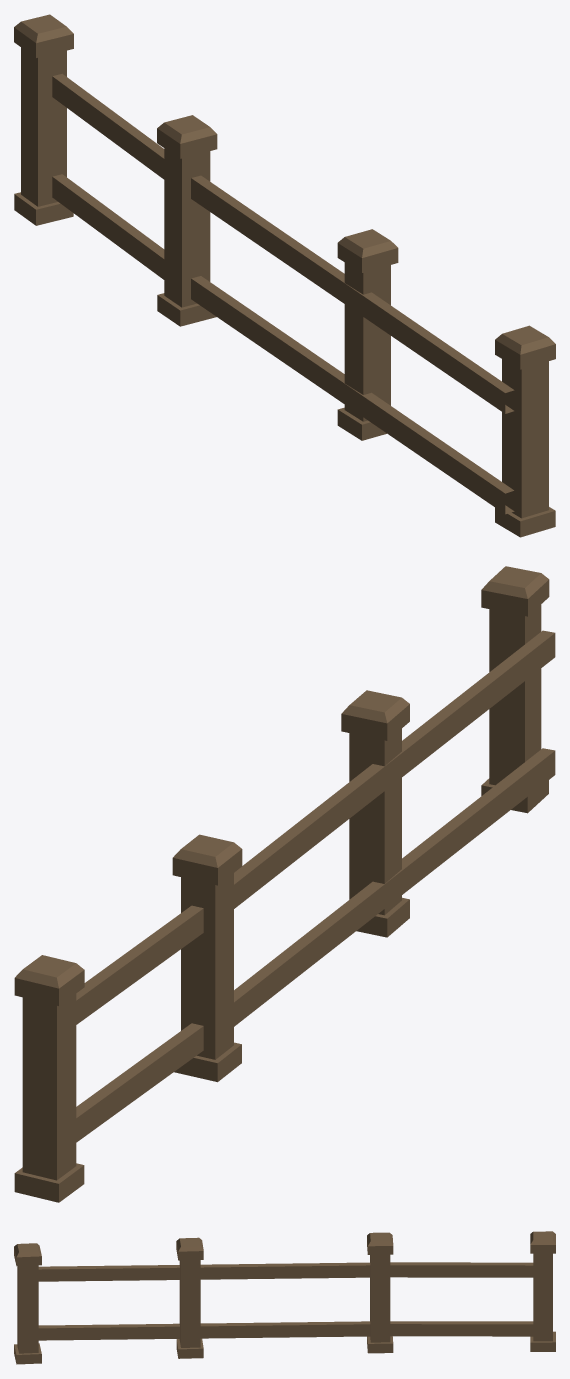
The model's file is hang_rao.fbx.
3 views of the same model, one above another, from view 1: azimuth 30°, elevation 25°; view 2: azimuth 150°, elevation 25°; view 3: azimuth 270°, elevation 25° (orthographic). The views are drawn at different scales.
Visible parts, largest first — view 1: hang_rao; view 2: hang_rao; view 3: hang_rao.
Part boxes in pixels (x1,y1,x2,y2): hang_rao: (14,14,555,537); hang_rao: (14,566,555,1202); hang_rao: (14,1231,555,1364).
Size of the model in its own units: 5.26 by 11.62 by 51.46.
